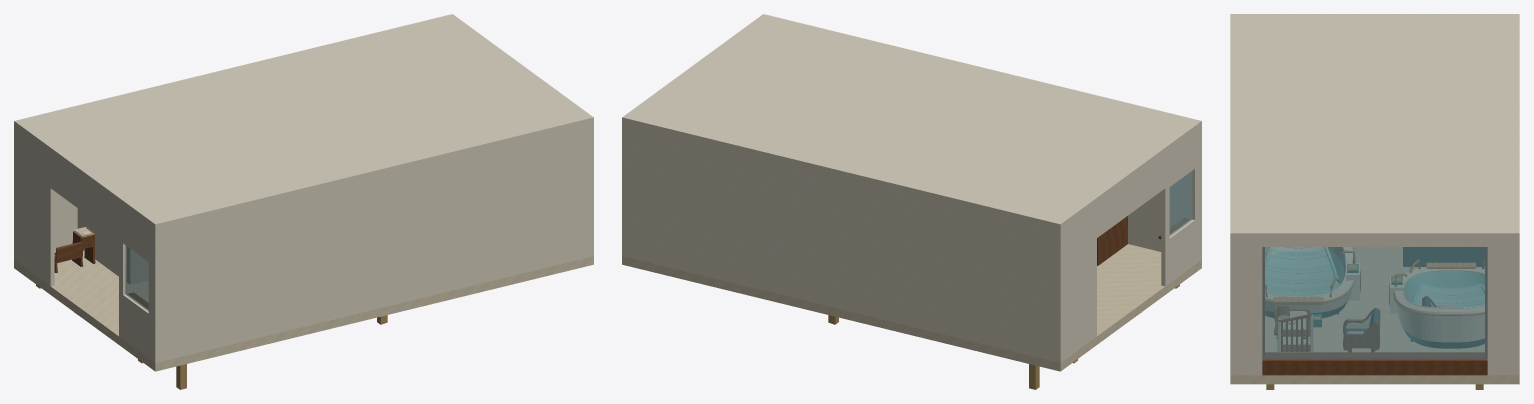
Rendered from QuietGroveBank_553_r001.glb.
3 views of the same model, side by side, from view 1: azimuth 30°, elevation 25°; view 2: azimuth 150°, elevation 25°; view 3: azimuth 270°, elevation 25° (orthographic). The views are drawn at different scales.
Visible parts, largest first — view 1: QG553_Ceiling, QG553_NorthSide, QG553_RoomFloor, QG553_EntryShoulderSouth, QG553_EntryHeader, QG553_StreetWindowLower, QG553_WashEntrySide, QG553_SouthSide, QG553_StreetWindowUpper, QG553_ScreenedStreetGlass; view 2: QG553_Ceiling, QG553_SouthSide, QG553_RoomFloor, QG553_EntryShoulderSouth, QG553_NorthSide, QG553_EntryHeader, QG553_StreetWindowLower, QG553_StreetWindowUpper, QG553_ScreenedStreetGlass, QG553_EntryPrivacyDogleg; view 3: QG553_Ceiling, QGB553_PrivateCourtGlass, QG553_RoomFloor, QG553_QG553_ReservedRestSupport_02__Hollow continuous basin , QGB553_CourtNorthPier, QGB553_CourtSouthPier, QGB553_CourtSill, QG553_QG553_ReservedRestSupport_01__Contoured broad immersed, QGB553_CourtHeader, QG553_QG553_ReservedRestSupport_01__Hollow continuous basin , QG553_PositiveWetPrivacyBlade, QGB553_DeepReveal_0.34 (+7 smaller).
Boxes of the visible parts, <box> form: QG553_Ceiling: <box>14,14,593,229</box>; QG553_NorthSide: <box>153,123,593,362</box>; QG553_RoomFloor: <box>14,250,593,371</box>; QG553_EntryShoulderSouth: <box>16,128,54,286</box>; QG553_EntryHeader: <box>49,153,119,238</box>; QG553_StreetWindowLower: <box>119,292,152,360</box>; QG553_WashEntrySide: <box>77,208,133,284</box>; QG553_SouthSide: <box>14,127,77,260</box>; QG553_StreetWindowUpper: <box>119,204,152,264</box>; QG553_ScreenedStreetGlass: <box>125,245,148,310</box>; QG553_Ceiling: <box>622,14,1201,229</box>; QG553_SouthSide: <box>622,123,1062,362</box>; QG553_RoomFloor: <box>622,244,1201,371</box>; QG553_EntryShoulderSouth: <box>1063,203,1096,360</box>; QG553_NorthSide: <box>1128,127,1201,260</box>; QG553_EntryHeader: <box>1096,154,1165,238</box>; QG553_StreetWindowLower: <box>1161,217,1199,286</box>; QG553_StreetWindowUpper: <box>1163,128,1199,190</box>; QG553_ScreenedStreetGlass: <box>1169,171,1192,235</box>; QG553_EntryPrivacyDogleg: <box>1097,216,1127,265</box>; QG553_Ceiling: <box>1230,14,1519,238</box>; QGB553_PrivateCourtGlass: <box>1262,247,1487,359</box>; QG553_RoomFloor: <box>1230,247,1519,384</box>; QG553_QG553_ReservedRestSupport_02__Hollow continuous basin : <box>1395,267,1484,348</box>; QGB553_CourtNorthPier: <box>1487,239,1519,375</box>; QGB553_CourtSouthPier: <box>1230,239,1262,375</box>; QGB553_CourtSill: <box>1262,358,1487,375</box>; QG553_QG553_ReservedRestSupport_01__Contoured broad immersed: <box>1265,247,1337,295</box>; QGB553_CourtHeader: <box>1262,239,1487,246</box>; QG553_QG553_ReservedRestSupport_01__Hollow continuous basin : <box>1265,247,1353,317</box>; QG553_PositiveWetPrivacyBlade: <box>1403,247,1484,266</box>; QGB553_DeepReveal_0.34: <box>1265,352,1484,357</box>.
Bounding box in the file's own units: 12.9 × 5.31 × 7.2.
79 materials, 49 textured.
